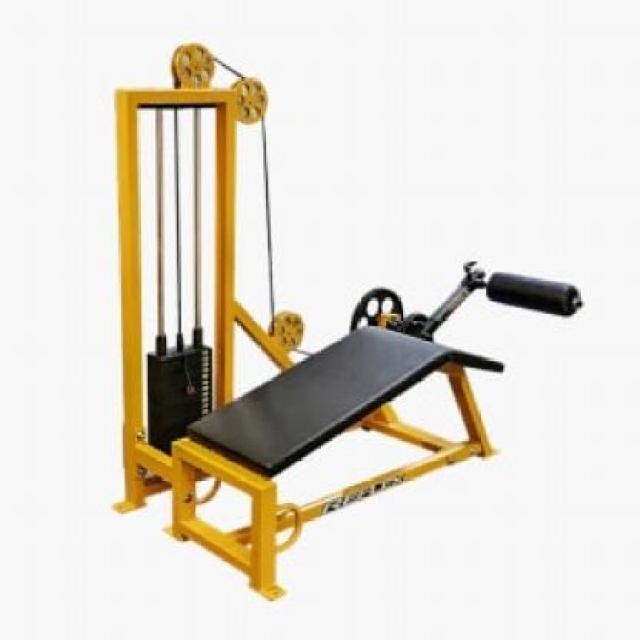reg curl machine: (112, 43, 583, 603)
